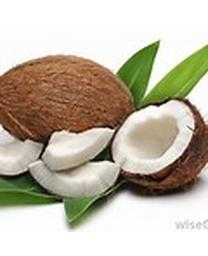coconut: (1, 52, 136, 163), (109, 95, 207, 191)
